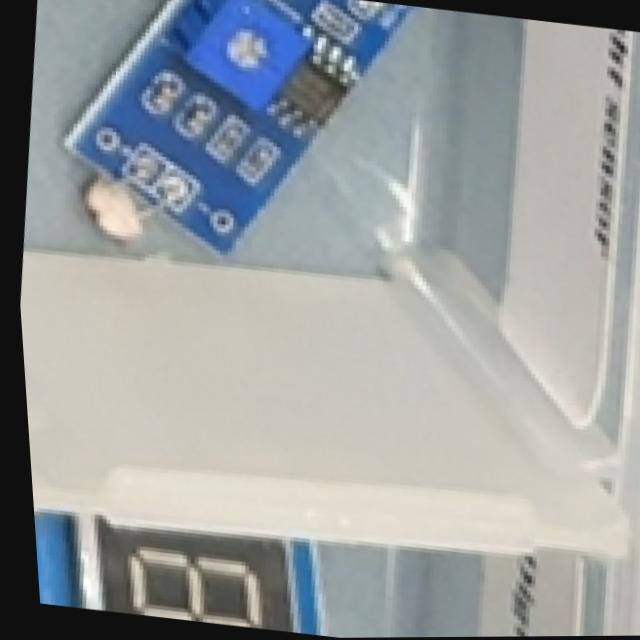Light Sensor: (38, 0, 435, 281)
